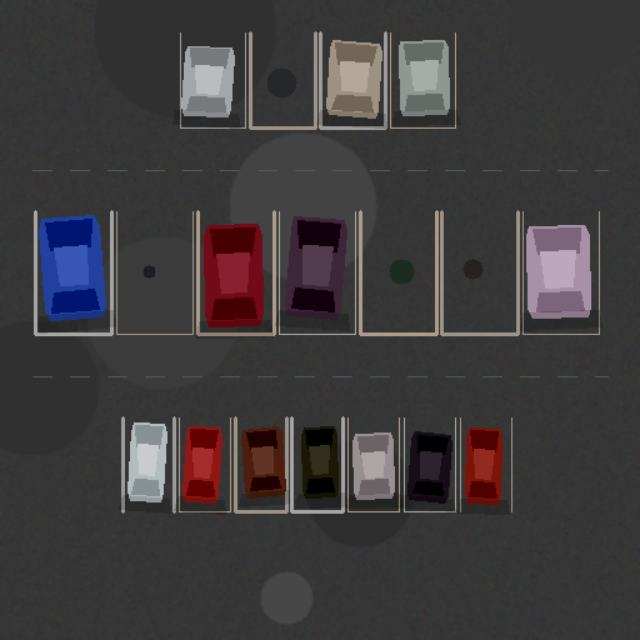space-empty: (116, 211, 193, 334), (360, 211, 436, 334), (441, 211, 517, 334), (250, 32, 315, 128)
space-occupied: (197, 211, 274, 334), (35, 211, 111, 334), (279, 211, 355, 334), (523, 211, 599, 334), (180, 32, 245, 128), (320, 32, 385, 128), (390, 32, 455, 128), (122, 418, 174, 511), (179, 418, 230, 511), (235, 418, 286, 511), (291, 418, 342, 511), (348, 418, 399, 511), (404, 418, 455, 511), (460, 418, 511, 511)
